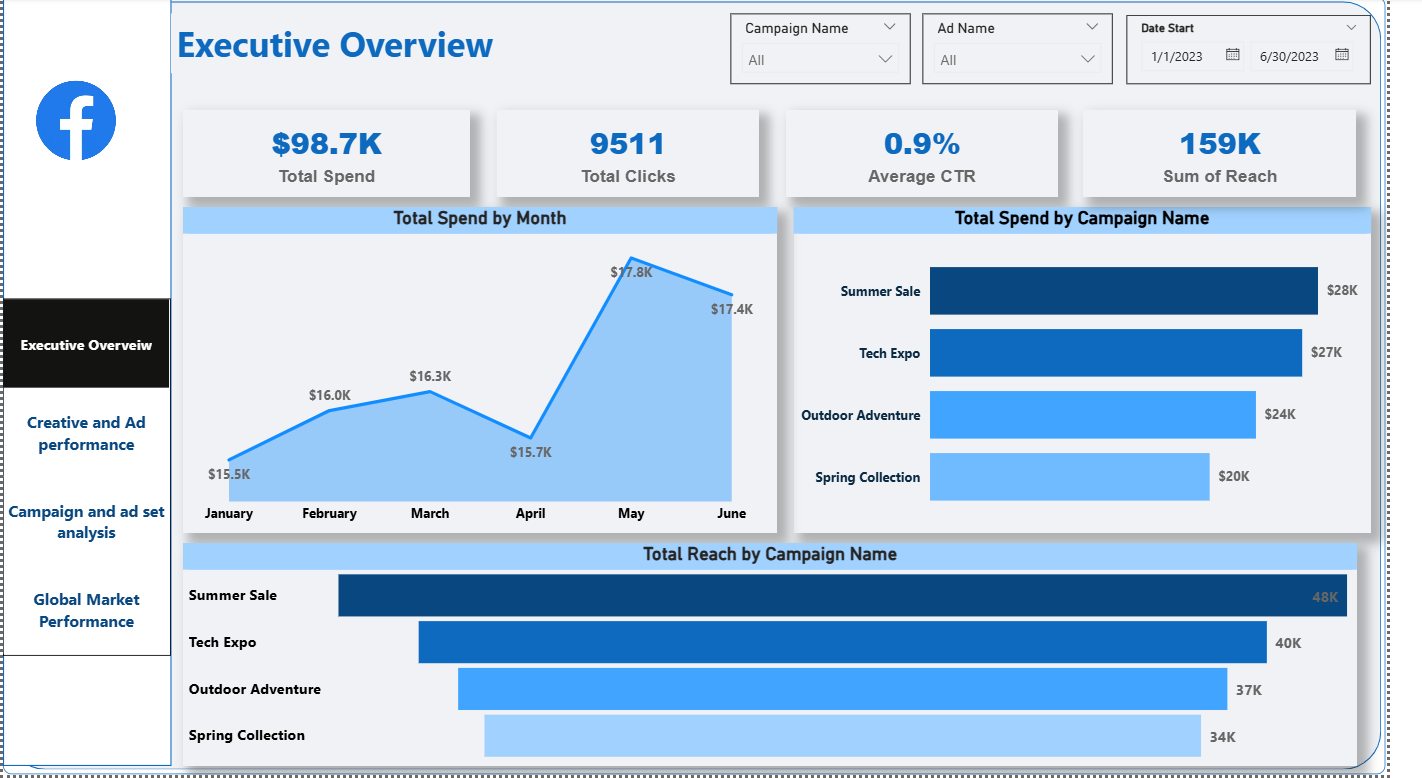

The dashboard page shown, as its layout file describes it:
{"tool":"powerbi","page":{"name":"Executive Overveiw","canvas":[1280,720],"ordinal":0},"visuals":[{"type":"shape","box":[0,0,1279.5,719.2],"z":0},{"type":"shape","box":[0,0,156,711.7],"z":1000},{"type":"image","box":[13.9,70.8,106.9,87.5],"z":2000},{"type":"textbox","box":[155.5,15.3,508.1,55.5],"z":3000},{"type":"card","fields":{"Values":["Fb_Ads.Total Spend"]},"box":[166.6,104.1,265.1,80.5],"z":4000},{"type":"card","fields":{"Values":["Fb_Ads.Total Clicks"]},"box":[456.7,104.1,242.9,80.5],"z":5000},{"type":"card","fields":{"Values":["Fb_Ads.Average CTR"]},"box":[724.6,104.1,251.3,80.5],"z":6000},{"type":"areaChart","fields":{"Category":["Fb_Ads.Date Start.Variation.Date Hierarchy.Month"],"Y":["Fb_Ads.Total Spend"]},"box":[166.6,194.3,549.7,301.2],"z":7000},{"type":"clusteredBarChart","fields":{"Category":["Fb_Ads.Campaign Name"],"Y":["Fb_Ads.Total Spend"]},"box":[731.6,194.3,534.5,301.2],"z":8000},{"type":"card","fields":{"Values":["Sum(Fb_Ads.Reach)"]},"box":[999.5,104.1,252.7,80.5],"z":9000},{"type":"funnel","title":"Total Reach by Campaign Name","fields":{"Category":["Fb_Ads.Campaign Name"],"Y":["Sum(Fb_Ads.Reach)"]},"box":[166.6,505.3,1087,206.8],"z":10000},{"type":"slicer","fields":{"Values":["Fb_Ads.Date Start"]},"box":[1039.8,16.7,226.3,63.9],"z":11000},{"type":"slicer","fields":{"Values":["Fb_Ads.Campaign Name"]},"box":[673.3,15.3,166.6,65.2],"z":12000},{"type":"slicer","fields":{"Values":["Fb_Ads.Ad Name"]},"box":[851,15.3,176.3,65.2],"z":14000},{"type":"pageNavigator","box":[0,279,155.5,330.4],"z":15000}]}

Visuals, with their boxes in screenshot pixels (x1, y1, x2, y2), scaled from the page's 1280x720 canvas onto the 1422x778 screenshot:
shape: box=[0, 0, 1421, 777]
shape: box=[0, 0, 173, 769]
image: box=[15, 77, 134, 171]
textbox: box=[173, 17, 737, 77]
card - Fb_Ads.Total Spend: box=[185, 112, 480, 199]
card - Fb_Ads.Total Clicks: box=[507, 112, 777, 199]
card - Fb_Ads.Average CTR: box=[805, 112, 1084, 199]
areaChart - Fb_Ads.Date Start.Variation.Date Hierarchy.Month x Fb_Ads.Total Spend: box=[185, 210, 796, 535]
clusteredBarChart - Fb_Ads.Campaign Name x Fb_Ads.Total Spend: box=[813, 210, 1407, 535]
card - Sum(Fb_Ads.Reach): box=[1110, 112, 1391, 199]
"Total Reach by Campaign Name" funnel: box=[185, 546, 1393, 769]
slicer - Fb_Ads.Date Start: box=[1155, 18, 1407, 87]
slicer - Fb_Ads.Campaign Name: box=[748, 17, 933, 87]
slicer - Fb_Ads.Ad Name: box=[945, 17, 1141, 87]
pageNavigator: box=[0, 301, 173, 658]
